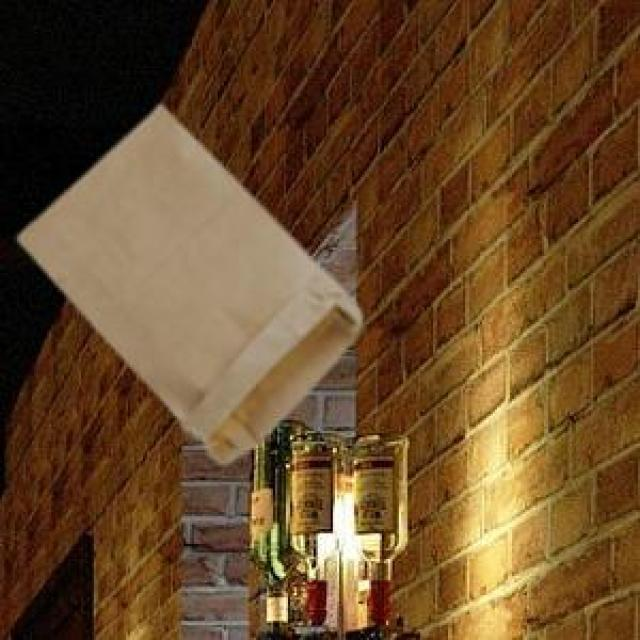paper: (15, 102, 356, 459)
